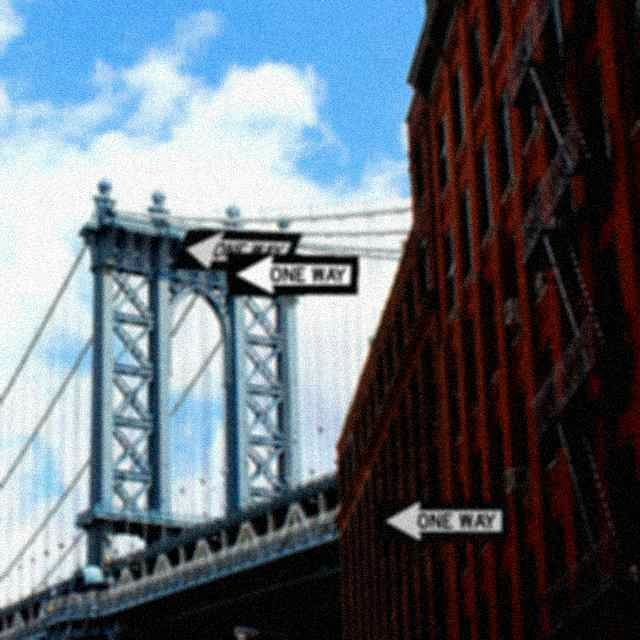ONE_WAY_ left: (170, 228, 303, 273), (226, 252, 359, 296), (377, 500, 510, 542)
